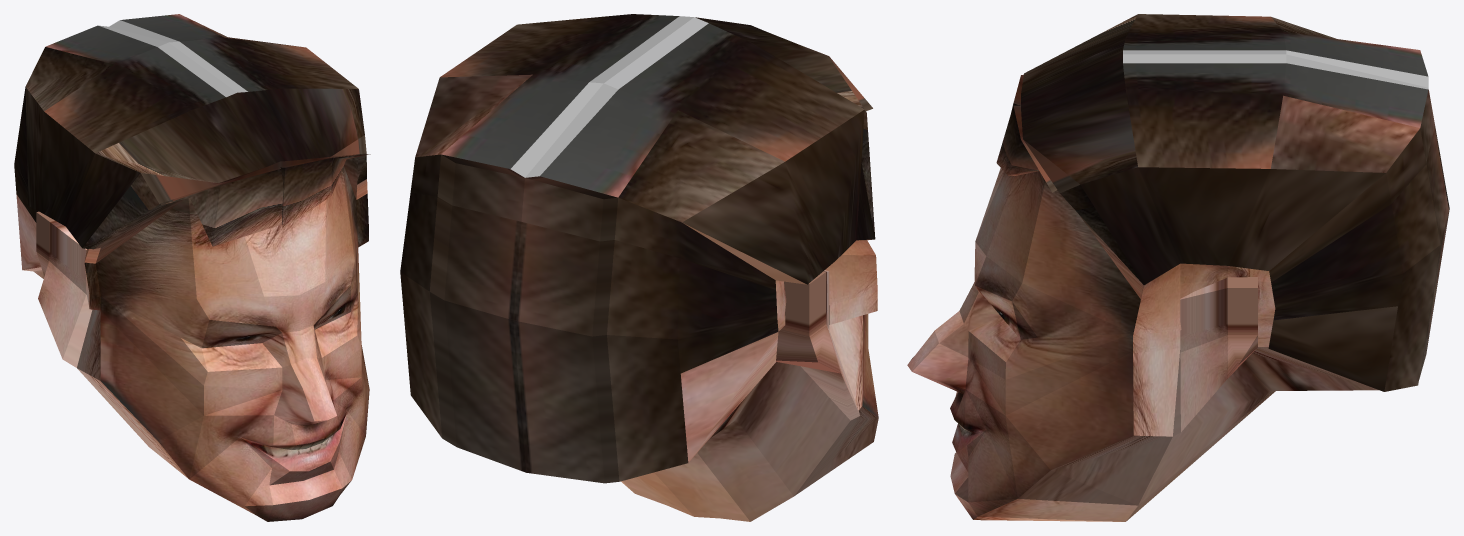
The model's file is luis.glb.
3 renders of one model, left to right at view 1: azimuth 30°, elevation 25°; view 2: azimuth 150°, elevation 25°; view 3: azimuth 270°, elevation 25°, orthographic. The views are drawn at different scales.
Visible parts, largest first — view 1: Cube; view 2: Cube; view 3: Cube.
Part boxes in pixels (x1,y1,x2,y2): Cube: [14, 14, 370, 521]; Cube: [400, 14, 878, 521]; Cube: [907, 14, 1449, 521].
Size of the model in its own units: 1.7 by 2.03 by 2.21.
Materials: 1 (1 with a texture image).
